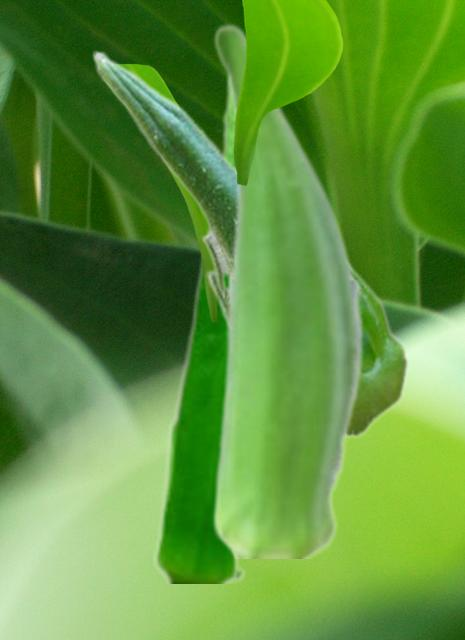okra: (91, 49, 409, 437), (211, 22, 364, 557), (153, 73, 250, 582)
